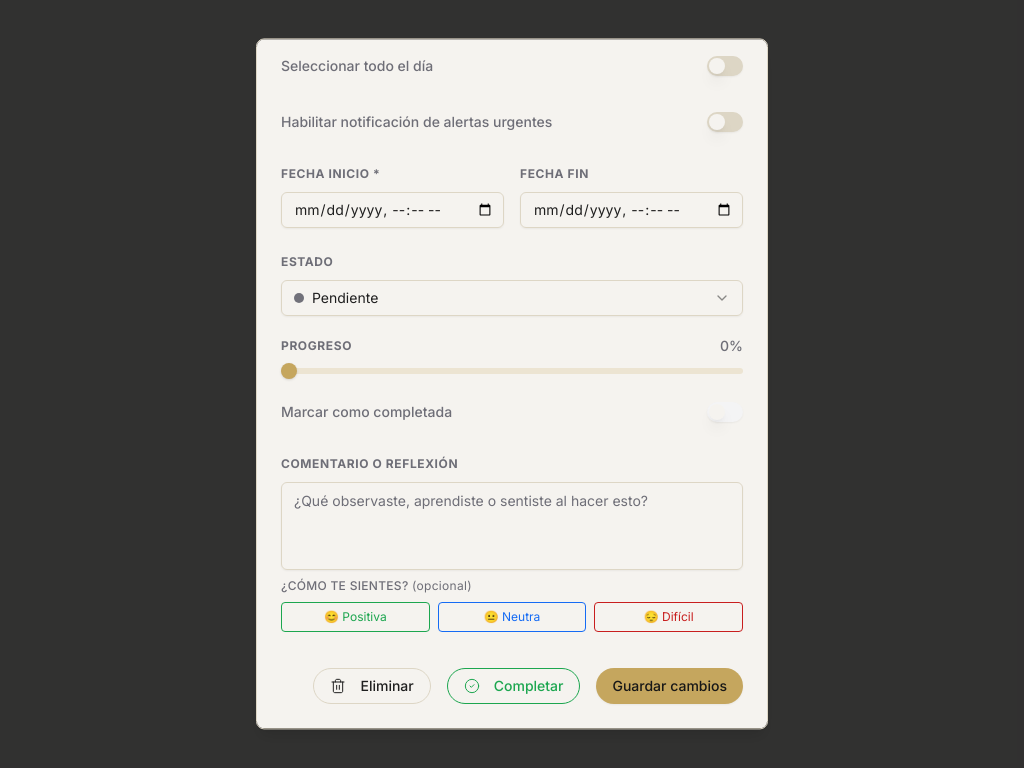
Scenario: TaskModal reflection failure handling › keeps the reflection text and emotion when saving fails, then retries both
(page scrolled)
Type "Me costó empezar, pero lo terminé." into the text box with test id "task-completion-reflection-input" at {"x": 512, "y": 526}, box left=281, top=482, right=743, bottom=570
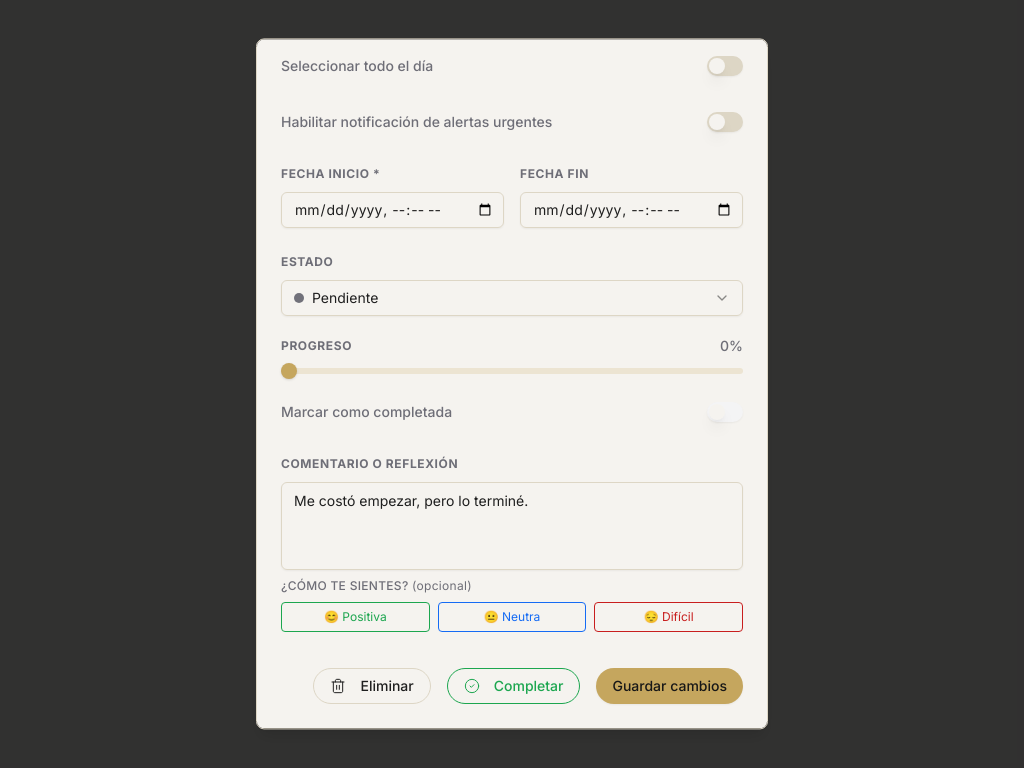
Click the button "😔 Difícil" at {"x": 669, "y": 617}, box left=594, top=602, right=743, bottom=632
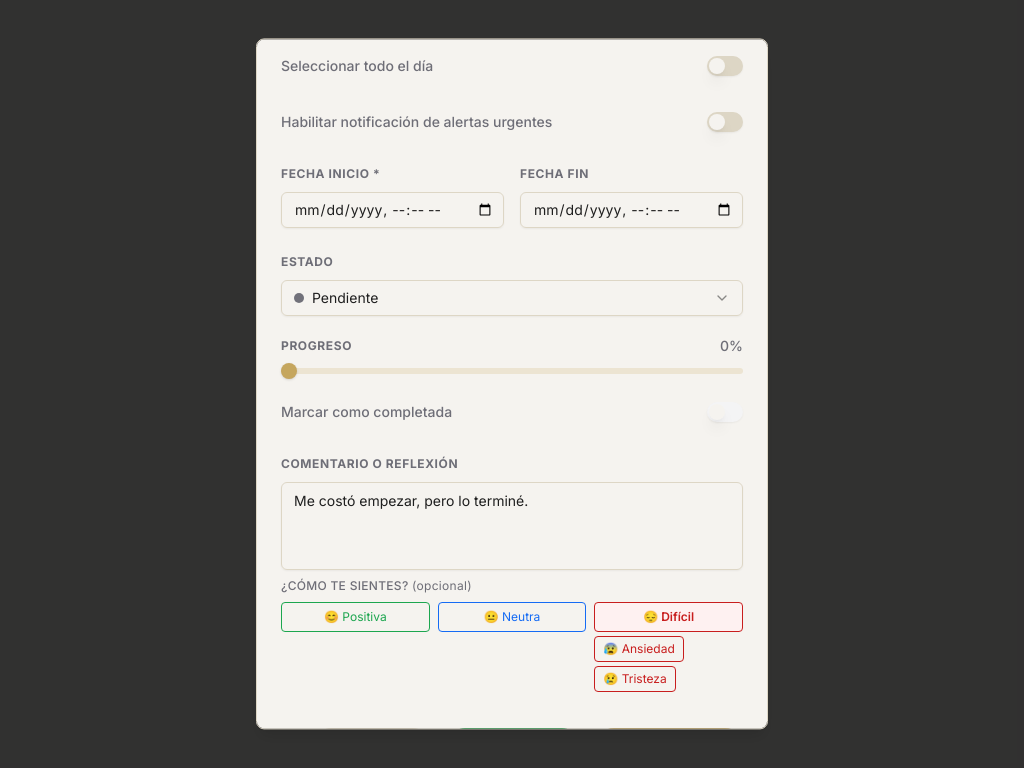
Click the button "😰 Ansiedad" at {"x": 639, "y": 649}, box left=594, top=636, right=684, bottom=662
(page scrolled)
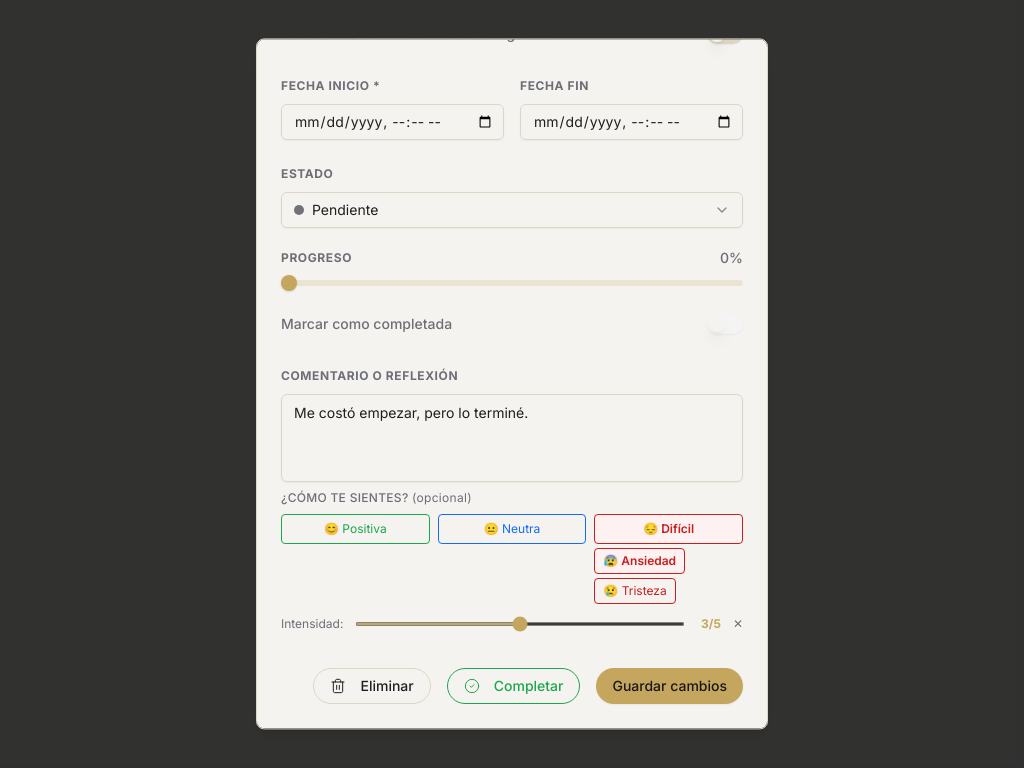
Click the button with test id "task-mark-done-btn" at {"x": 514, "y": 686}, box left=447, top=668, right=580, bottom=704
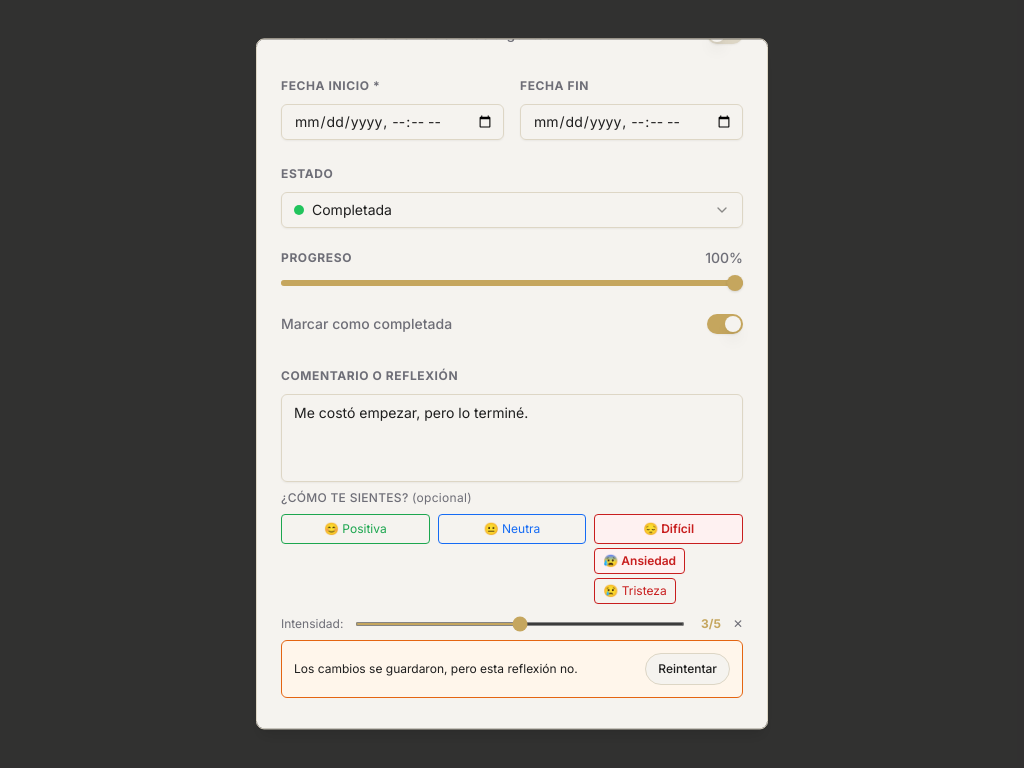
Now the button with test id "task-reflection-retry-btn" is shown
Click the button with test id "task-reflection-retry-btn" at {"x": 688, "y": 669}, box left=645, top=653, right=730, bottom=685
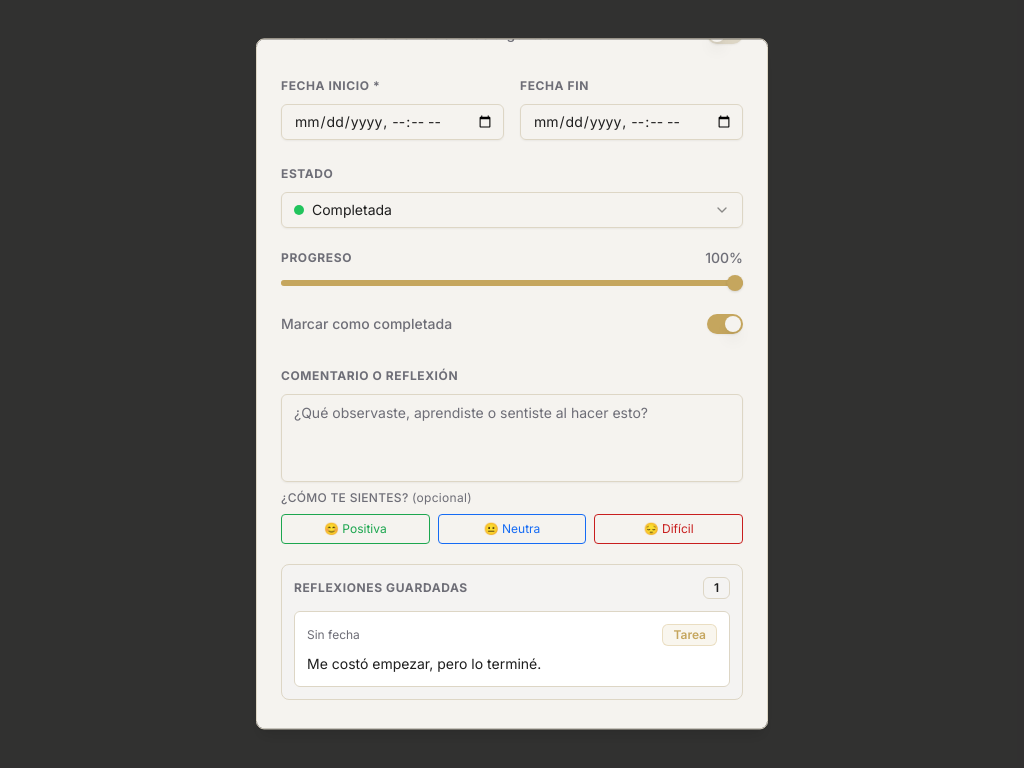
Now the text box with test id "task-completion-reflection-input" is empty, box left=281, top=394, right=743, bottom=482
Now the button "😰 Ansiedad" is gone
